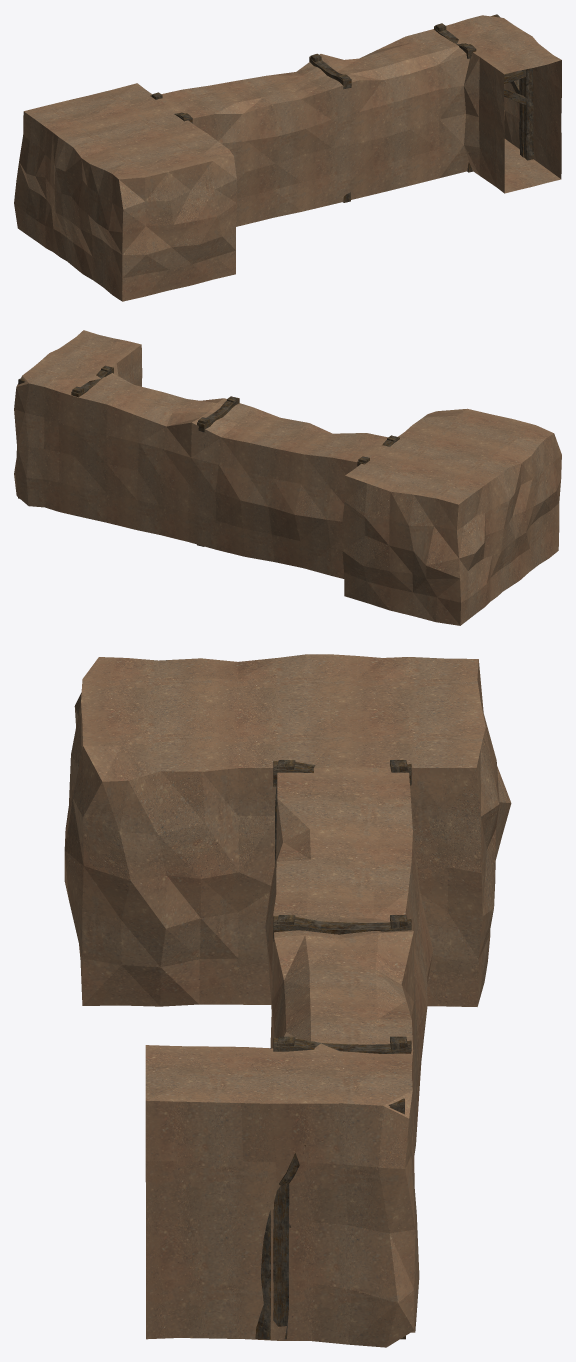
Rendered from SM_Сorridor_04.fbx.
The picture shows the model from 3 angles, top to bottom: view 1: azimuth 30°, elevation 25°; view 2: azimuth 150°, elevation 25°; view 3: azimuth 270°, elevation 25°; orthographic projection. The views are drawn at different scales.
Visible parts, largest first — view 1: SM_Сorridor_04, SM_Timber_Support_1.001, SM_Timber_Support.018, SM_Timber_Support_1.002, SM_Timber_Support.019; view 2: SM_Сorridor_04, SM_Timber_Support.018, SM_Timber_Support.019; view 3: SM_Сorridor_04, SM_Timber_Support_1.002, SM_Timber_Support.018, SM_Timber_Support.019, SM_Timber_Support_1.001, SM_Timber_Support.017.
Boxes of the visible parts, x1,y1,x2,y2 form: SM_Сorridor_04: (14,15,561,301); SM_Timber_Support_1.001: (504,68,533,160); SM_Timber_Support.018: (309,53,351,202); SM_Timber_Support_1.002: (491,14,524,157); SM_Timber_Support.019: (434,23,476,172); SM_Сorridor_04: (14,330,561,625); SM_Timber_Support.018: (197,396,239,546); SM_Timber_Support.019: (71,365,113,515); SM_Сorridor_04: (64,654,511,1347); SM_Timber_Support_1.002: (273,1098,405,1339); SM_Timber_Support.018: (273,915,411,941); SM_Timber_Support.019: (273,1036,411,1053); SM_Timber_Support_1.001: (255,1048,271,1339); SM_Timber_Support.017: (273,760,411,863).
Bounding box in the file's own units: 16.54 × 4.26 × 6.8.
